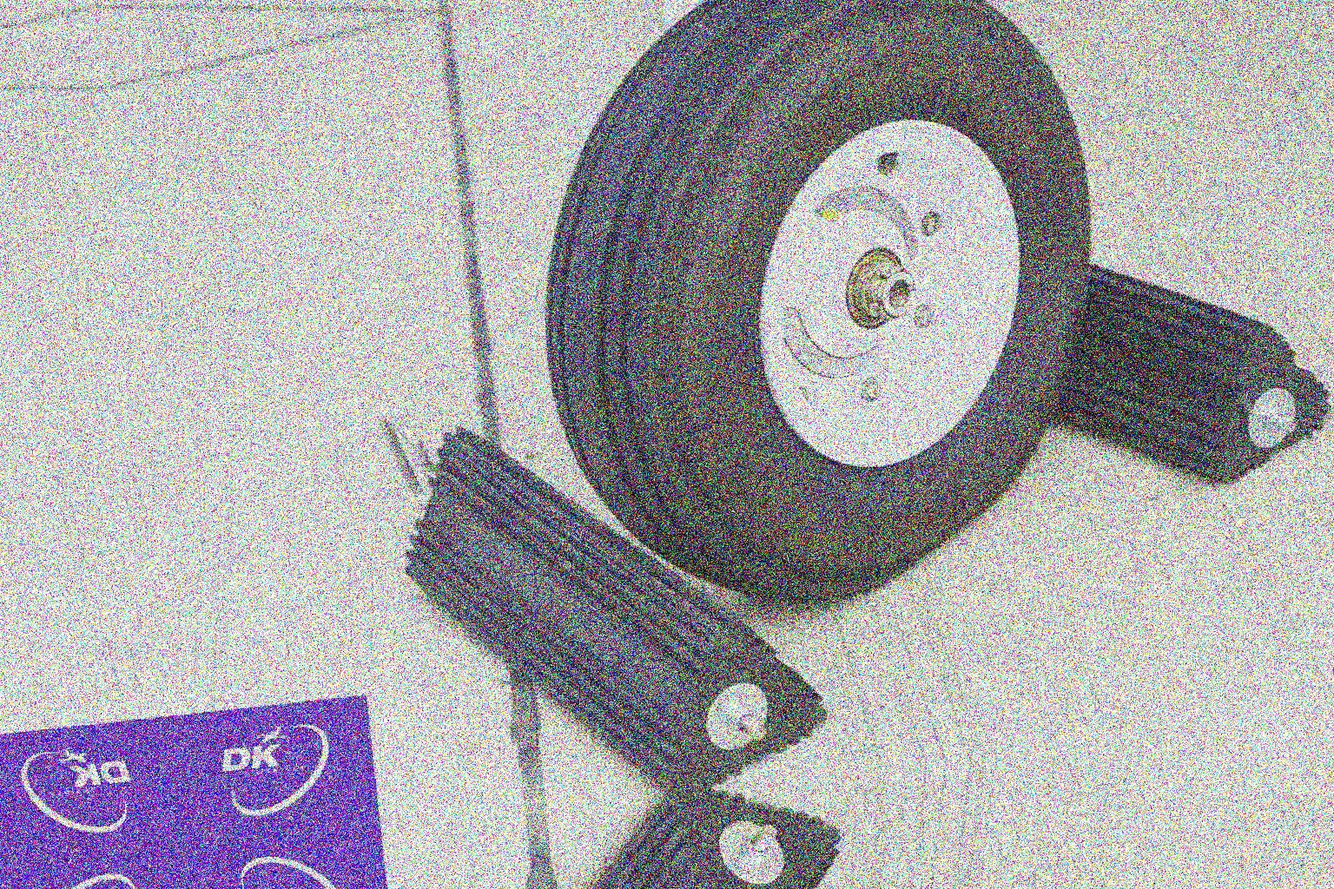chock: (387, 388, 837, 819), (926, 225, 1334, 514)
wheel: (506, 0, 1133, 632)
